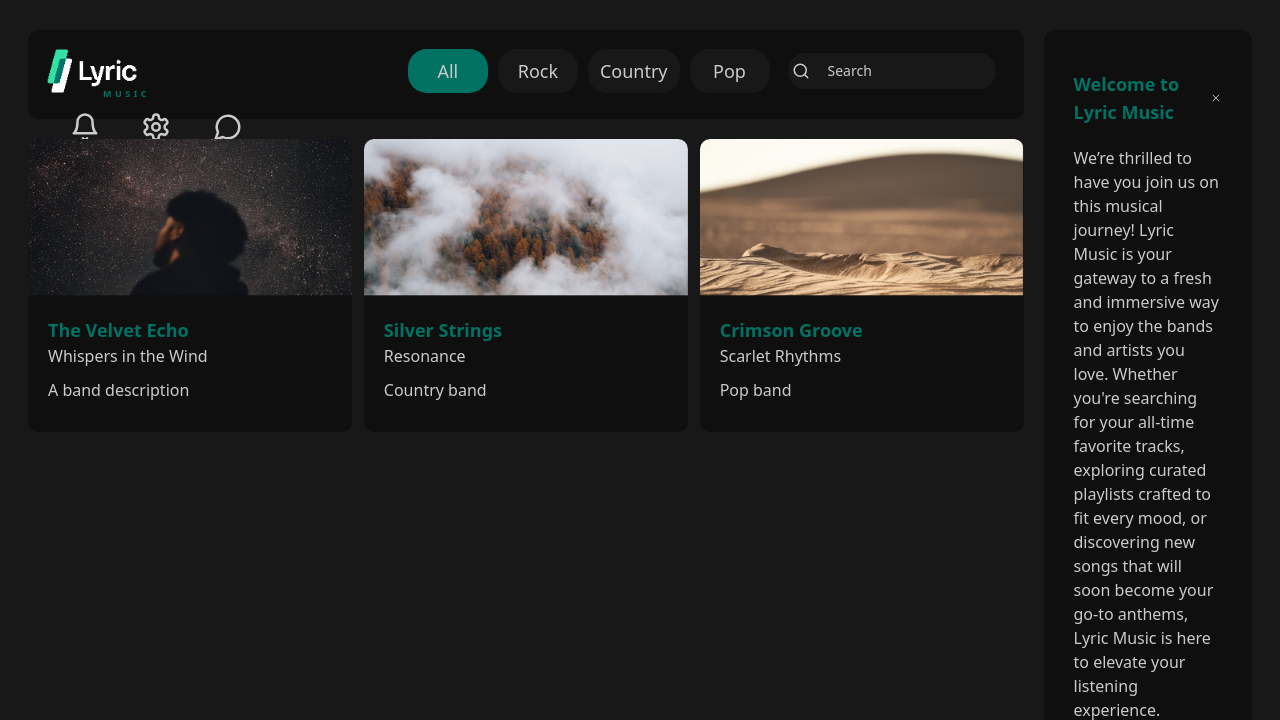
Test: App › filters bands by search input
Expected: the heading "The Velvet Echo" is shown, [48, 318, 189, 342]
Type "Silver" into the field with placeholder "Search" at (892, 71), box [788, 53, 996, 89]
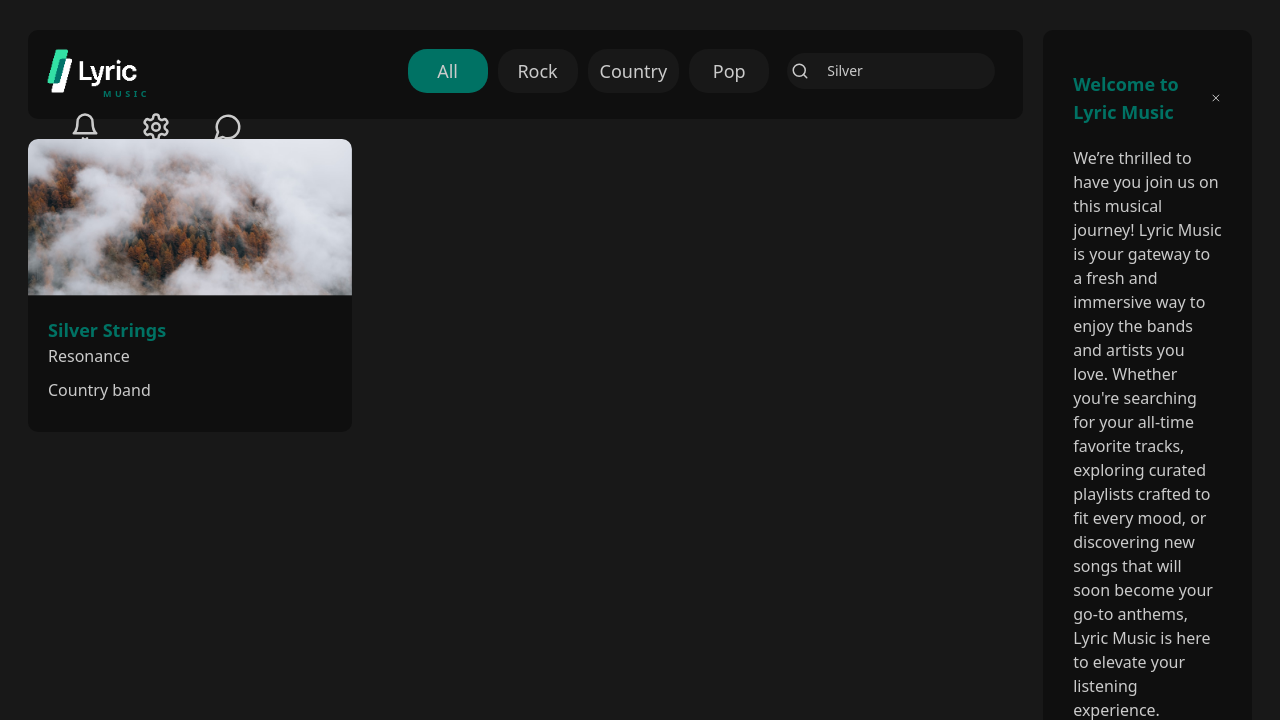
Expected: the heading "Silver Strings" is shown, [48, 318, 166, 342]
Result: the heading "The Velvet Echo" is gone
Result: the heading "Crimson Groove" is gone
